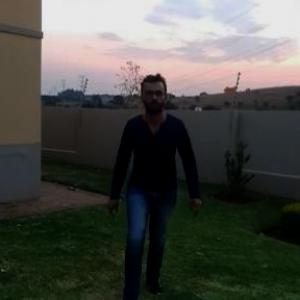follow: (112, 80, 186, 299)
